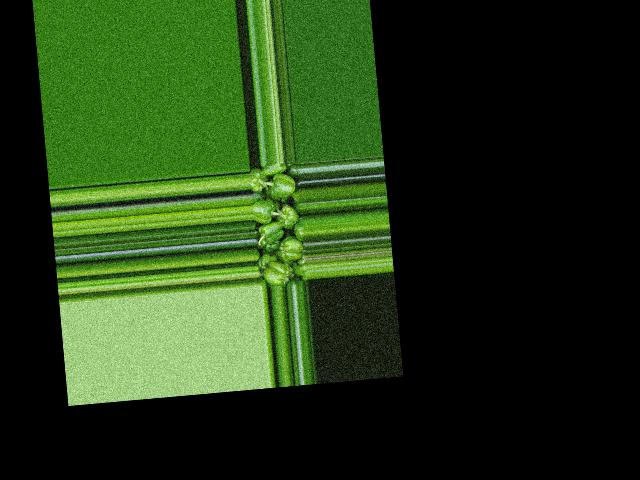bell_pepper: (250, 163, 308, 288)
